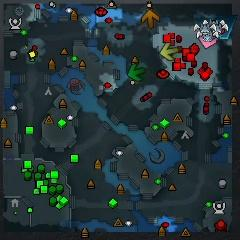x1: (199, 36, 216, 49)
x2: (160, 43, 177, 60)
x4: (127, 64, 144, 82)
x5: (141, 10, 159, 29)
